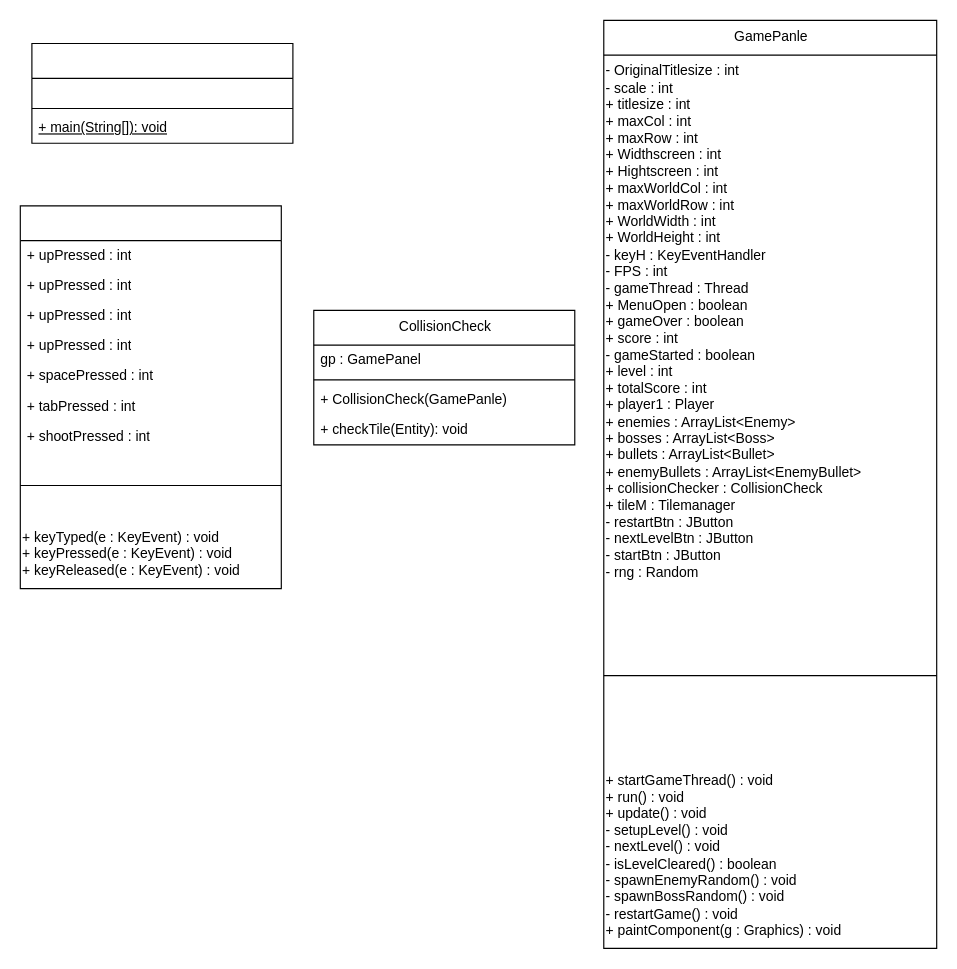
Image size: 957x969. Some labels were removed from this diagram. Here are the shapes that lost their labels. From the top down, the box of each, then its label:
(31, 42, 293, 143): BaseGame
(19, 205, 281, 589): KeyEventHandler
